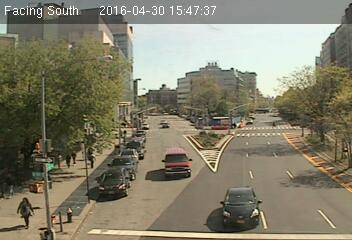neg: (255, 100, 292, 149), (249, 176, 284, 223), (300, 35, 334, 80), (307, 159, 336, 198), (26, 17, 54, 55), (170, 8, 197, 44), (196, 47, 223, 83), (170, 146, 194, 177), (153, 193, 175, 222), (181, 112, 201, 139)
